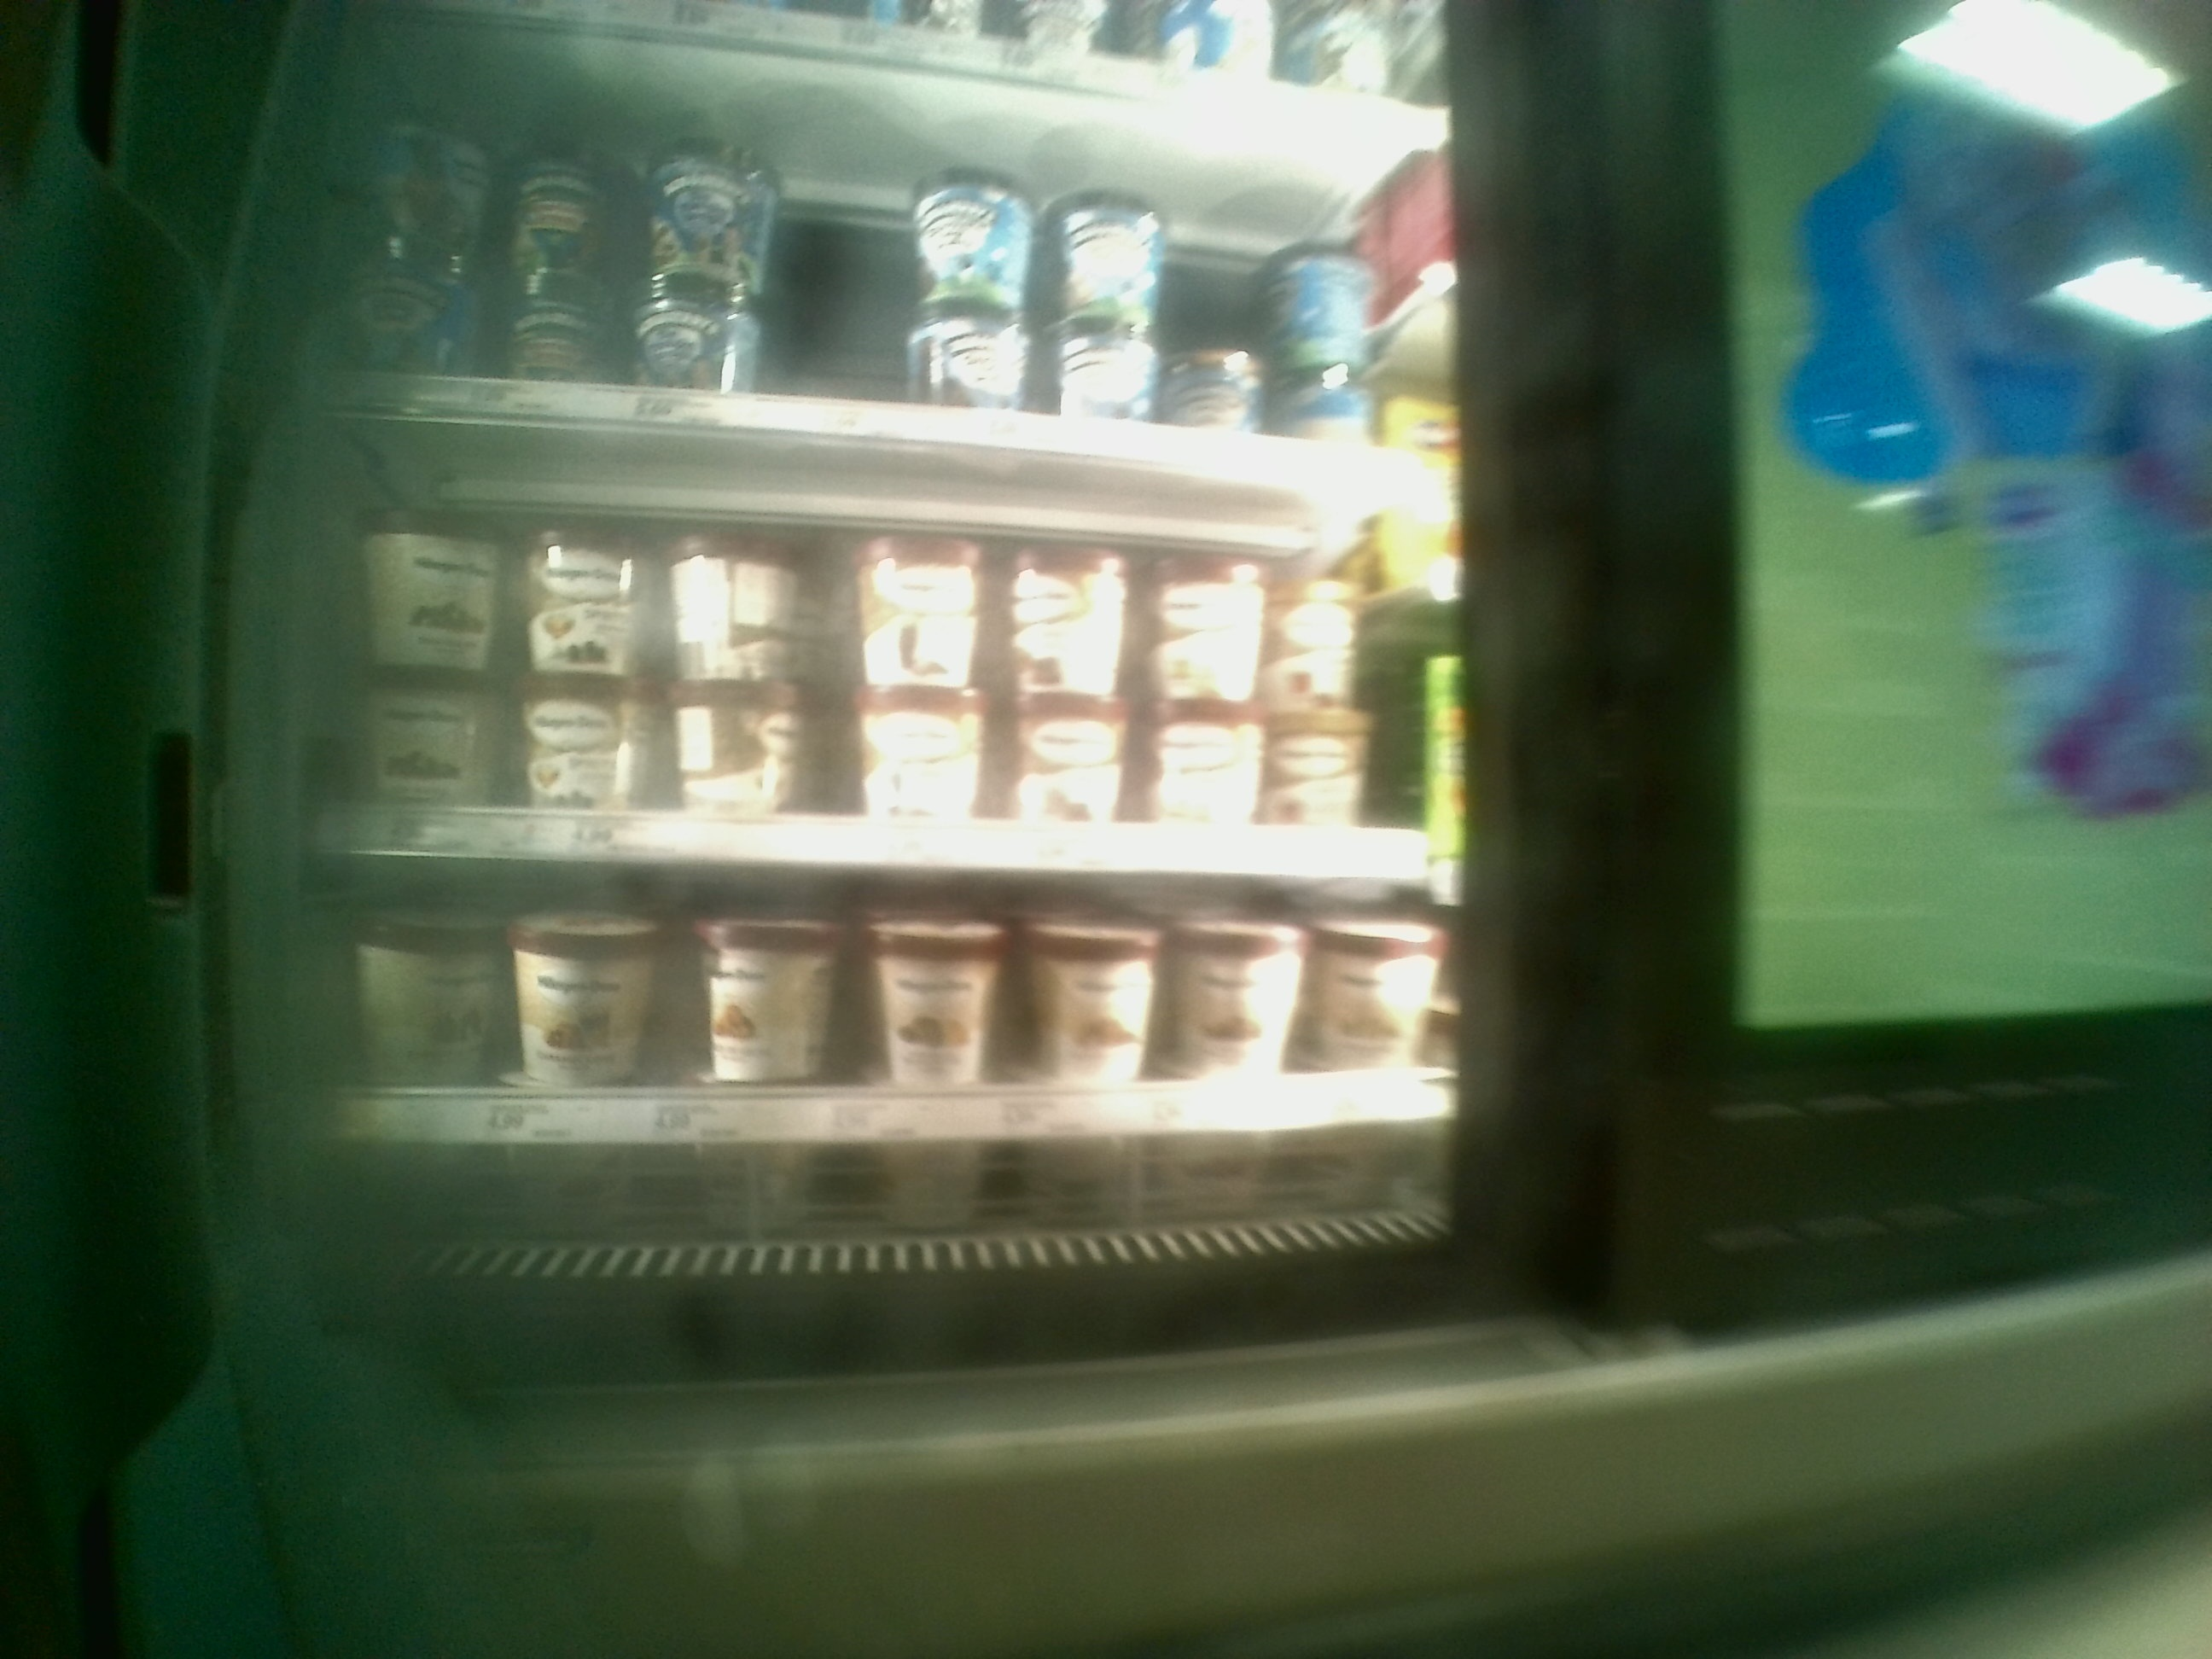shelf: (319, 413, 1463, 870), (319, 864, 1484, 1256)
